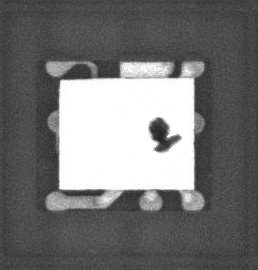DIE_INK: (141, 122, 173, 160)
